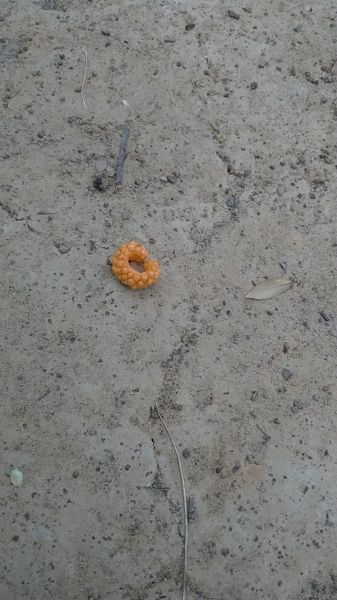eggs: (110, 238, 159, 292)
